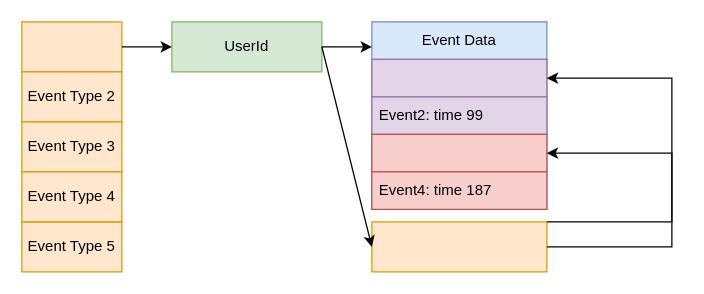
Some shapes in this 704 by 294 pixel diagram are drawn without their labels. The shapes that lost their labels are listed below. From the top down, each one's centre as x and y in pixels, then its label:
[71,46]: Event Type 1
[459,77]: Event1: time 0
[459,152]: Event3: time 132
[459,246]: Event Type 1 Time Index
